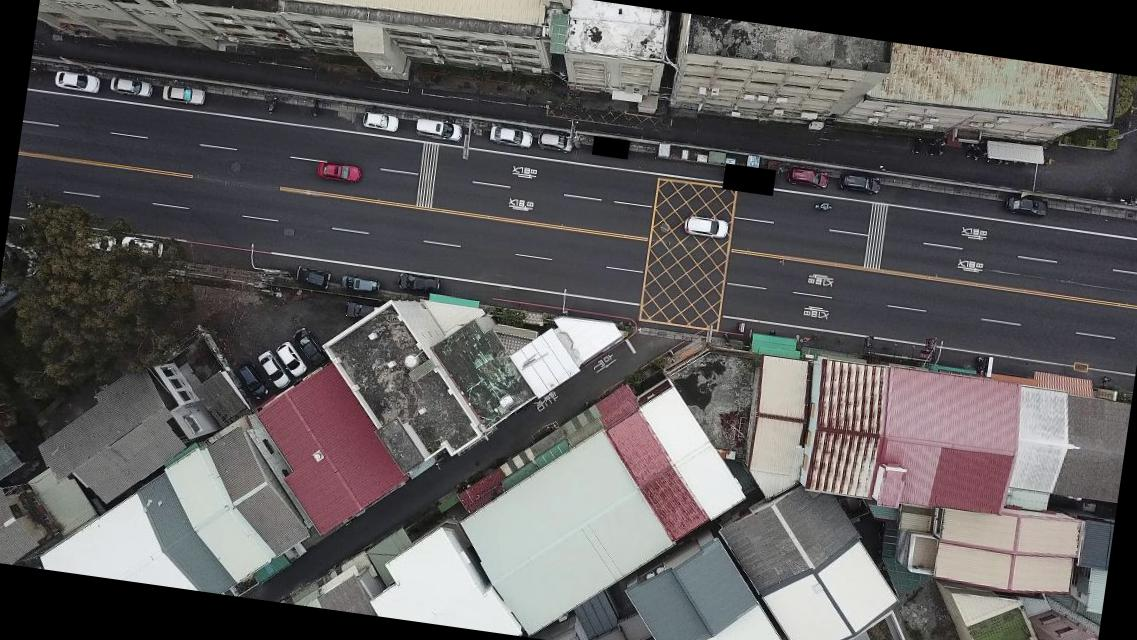vehicle: (288, 326, 329, 370), (252, 349, 294, 391), (411, 115, 464, 144), (235, 362, 272, 402), (272, 340, 309, 378), (682, 212, 729, 240), (315, 158, 364, 184), (785, 166, 831, 192), (159, 82, 206, 107), (53, 69, 100, 94), (1003, 194, 1048, 220), (108, 75, 154, 99), (394, 272, 440, 296), (119, 234, 163, 259), (291, 264, 332, 290), (836, 172, 880, 196), (488, 124, 533, 147), (337, 272, 380, 294), (535, 129, 574, 153), (360, 110, 400, 132), (343, 302, 381, 322)
